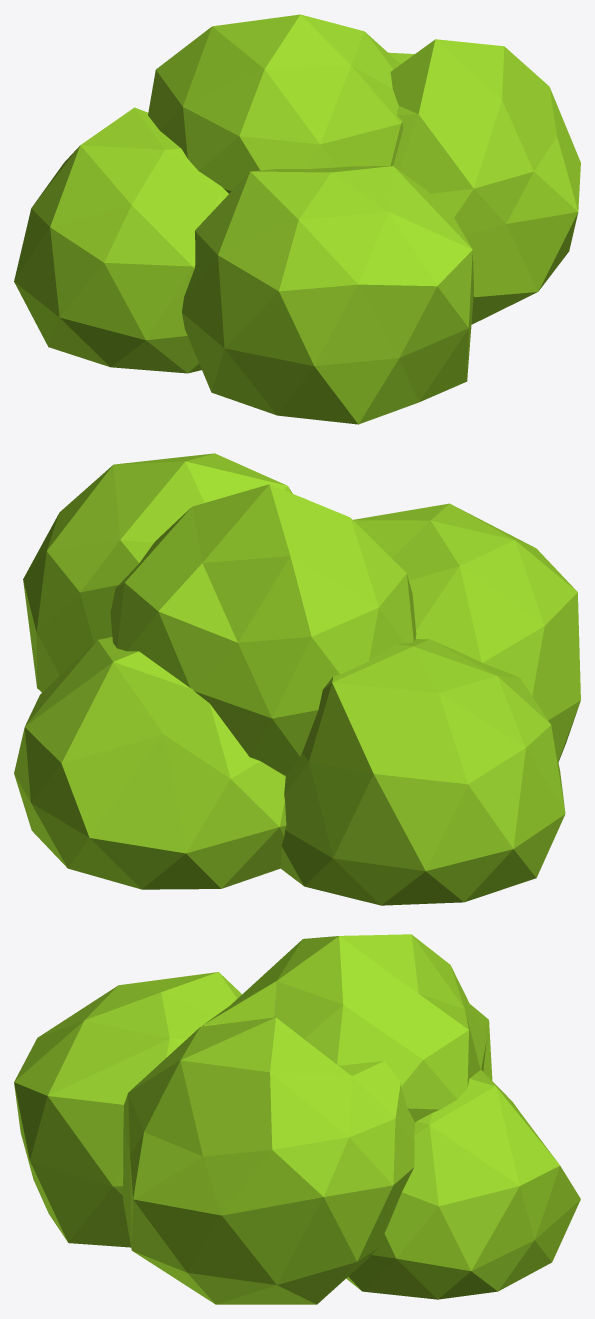
File: object_landscape_bush_large.glb
The picture shows the model from 3 angles, top to bottom: view 1: azimuth 30°, elevation 25°; view 2: azimuth 150°, elevation 25°; view 3: azimuth 270°, elevation 25°; orthographic projection. The views are drawn at different scales.
Parts seen in each view (by area): view 1: object_landscape_bush_large; view 2: object_landscape_bush_large; view 3: object_landscape_bush_large.
Part boxes in pixels (x1=…): object_landscape_bush_large: x1=14, y1=14, x2=580, y2=424; object_landscape_bush_large: x1=14, y1=453, x2=580, y2=905; object_landscape_bush_large: x1=14, y1=934, x2=580, y2=1304.
Bounding box in the file's own units: 0.409 × 0.2307 × 0.4099.
